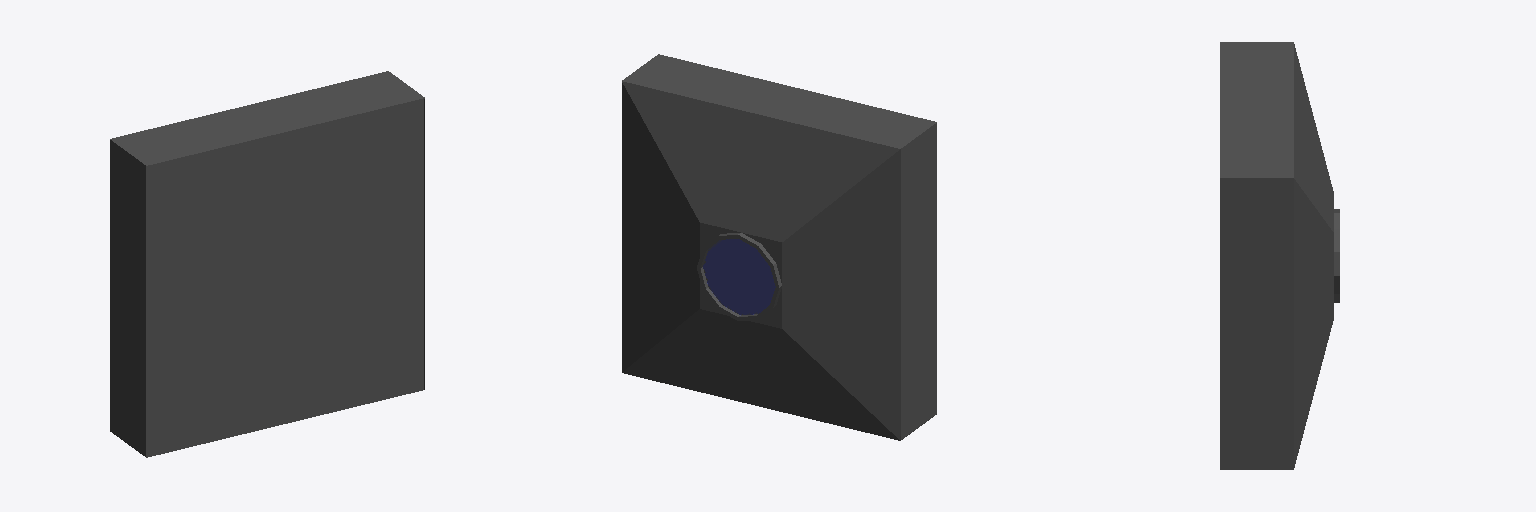
3 views of the same model, side by side, from view 1: azimuth 30°, elevation 25°; view 2: azimuth 150°, elevation 25°; view 3: azimuth 270°, elevation 25° (orthographic).
Visible parts, largest first — view 1: 相机_立方体; view 2: 相机_立方体; view 3: 相机_立方体.
Boxes of the visible parts, <box> form: 相机_立方体: <box>110,71,424,457</box>; 相机_立方体: <box>622,54,936,440</box>; 相机_立方体: <box>1220,42,1339,469</box>.
Bounding box in the file's own units: 0.0378 × 0.0378 × 0.014.
Materials: 2 (1 with a texture image).